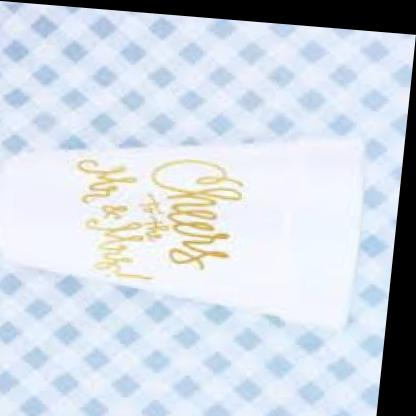Plastic: (0, 93, 381, 330)
